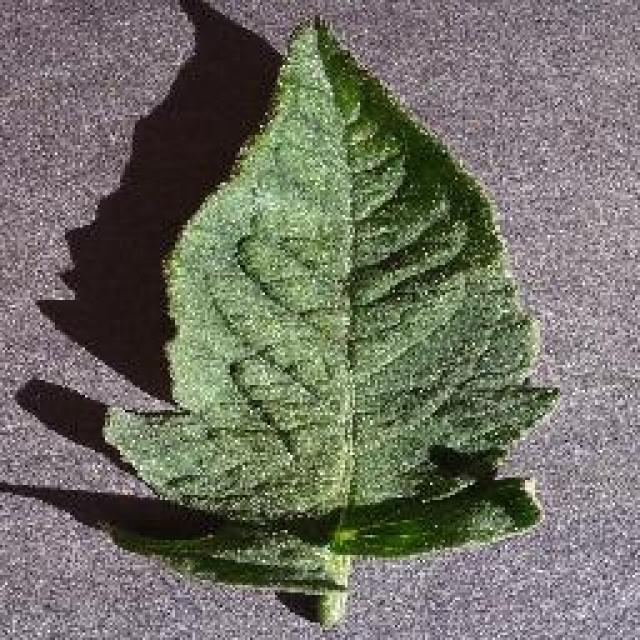Healthy: (50, 2, 578, 640)
